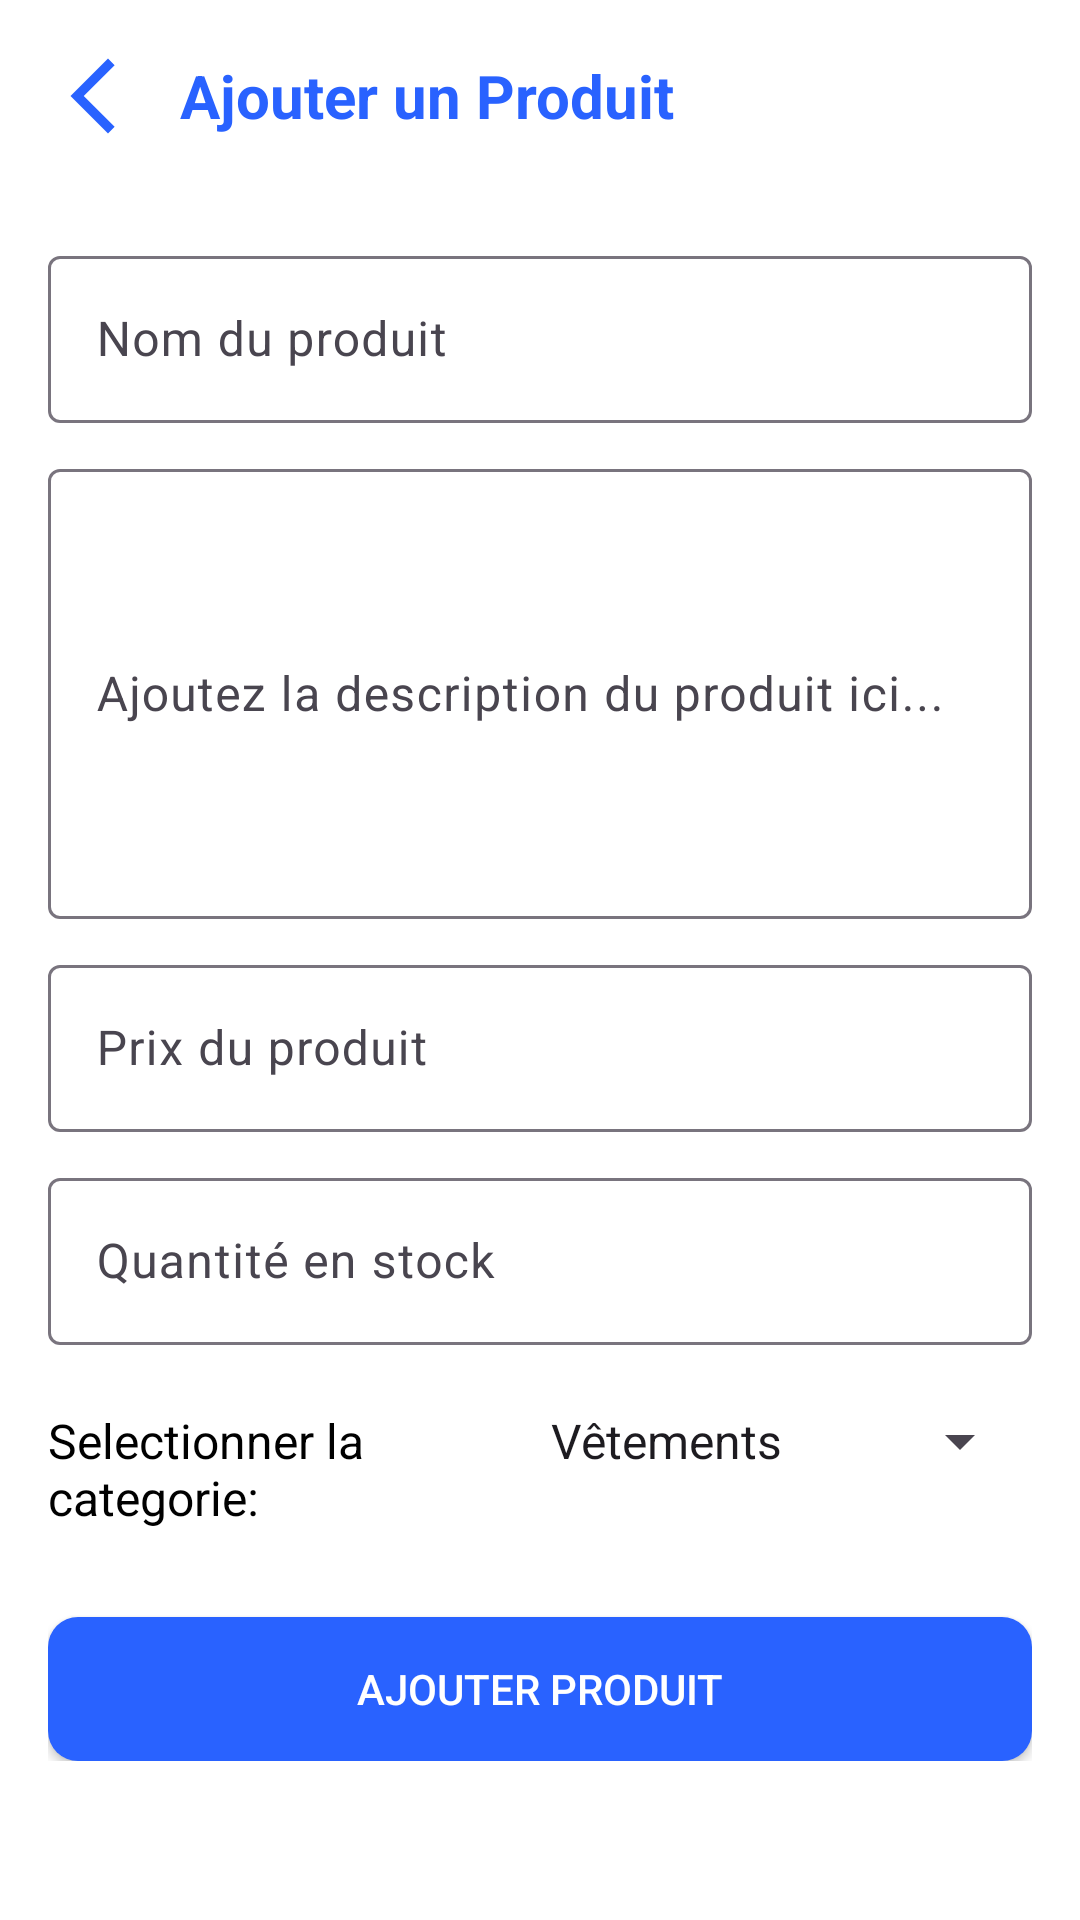

Screen size 1080*1920. Icon name, then its box in pixels as (x1, y1, x2, y2):
arrow back: (70, 58, 115, 134)
